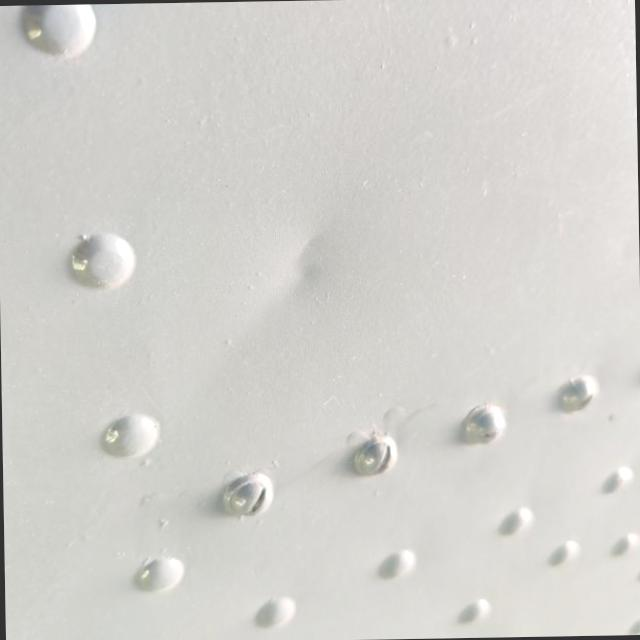dent: (243, 195, 369, 315)
